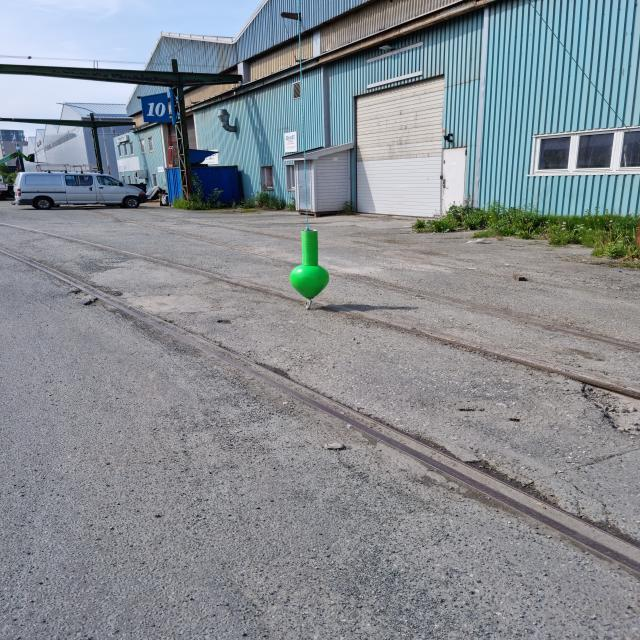green: (291, 230, 330, 300)
